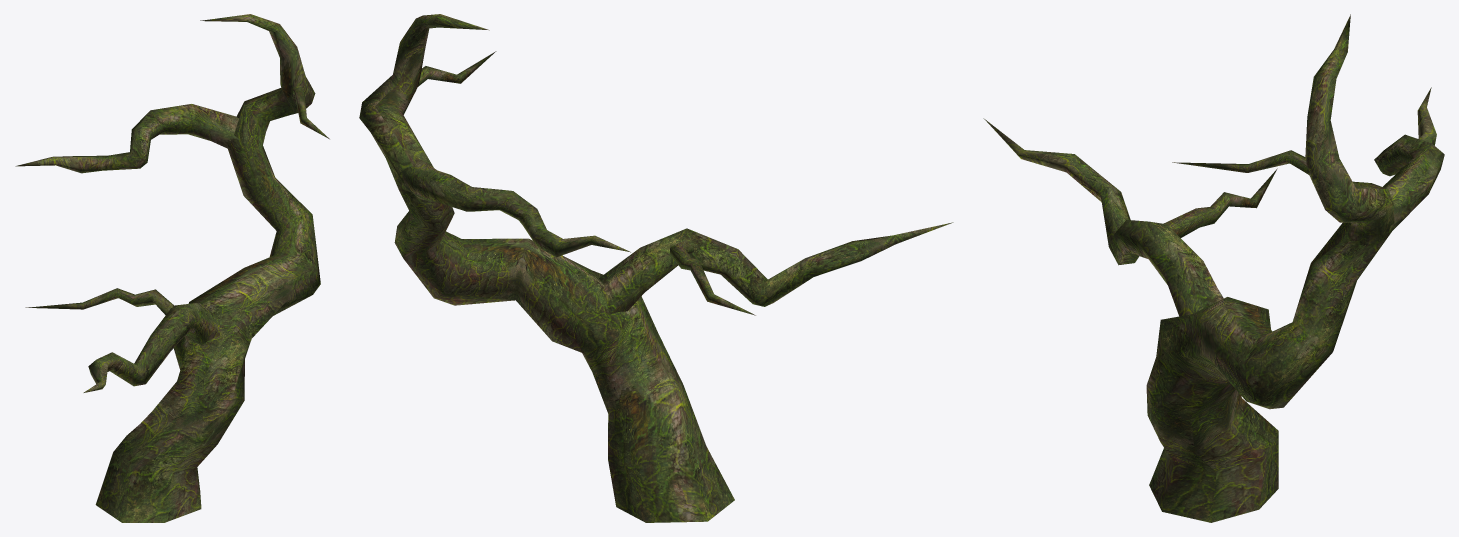
The model's file is environment_Tree_jianmushenshu_001_b.FBX.
3 renders of one model, left to right at view 1: azimuth 30°, elevation 25°; view 2: azimuth 150°, elevation 25°; view 3: azimuth 270°, elevation 25°, orthographic. The views are drawn at different scales.
Visible parts, largest first — view 1: environment_Tree_jianmushenshu_001_b; view 2: environment_Tree_jianmushenshu_001_b; view 3: environment_Tree_jianmushenshu_001_b.
Boxes of the visible parts, box(x1,y1,x2,y2) form: environment_Tree_jianmushenshu_001_b: box(15, 14, 329, 522); environment_Tree_jianmushenshu_001_b: box(359, 14, 953, 522); environment_Tree_jianmushenshu_001_b: box(983, 14, 1444, 522).
Bounding box in the file's own units: 838 × 701 × 908.
1 material, 1 textured.
